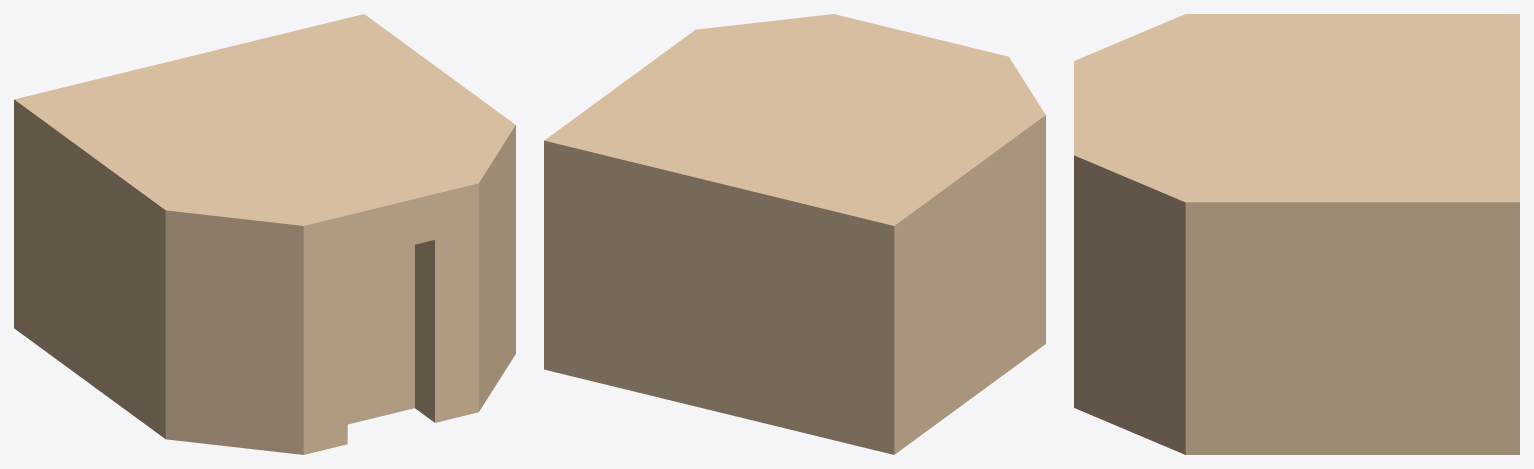
File: building-edges-door.obj
3 renders of one model, left to right at view 1: azimuth 30°, elevation 25°; view 2: azimuth 150°, elevation 25°; view 3: azimuth 270°, elevation 25°, orthographic. The views are drawn at different scales.
Bounding box in the file's own units: 1 × 0.625 × 1.
